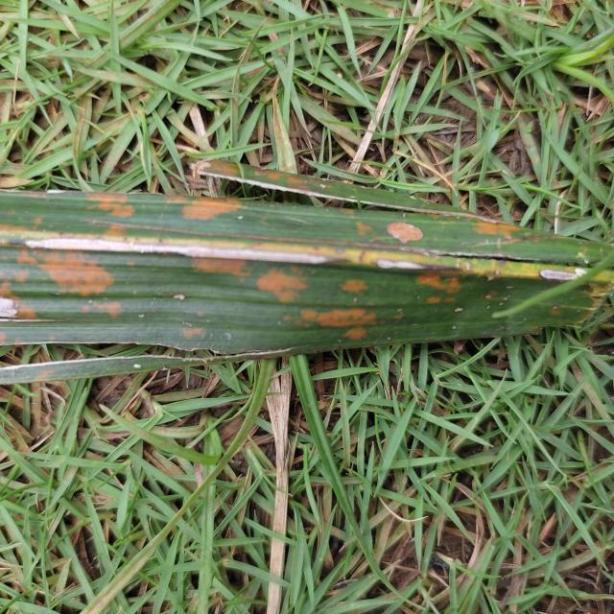Kalium: (0, 156, 614, 381)
